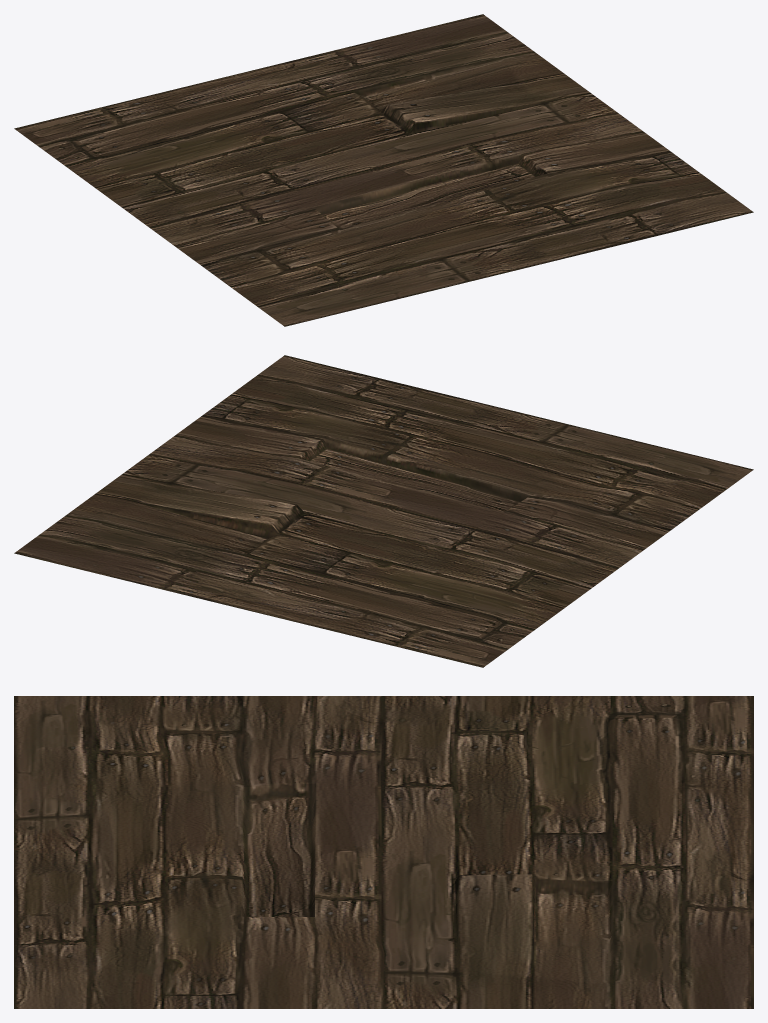
File: tile_02.fbx
The picture shows the model from 3 angles, top to bottom: view 1: azimuth 30°, elevation 25°; view 2: azimuth 150°, elevation 25°; view 3: azimuth 270°, elevation 25°; orthographic projection. The views are drawn at different scales.
Visible parts, largest first — view 1: tile_02; view 2: tile_02; view 3: tile_02.
Boxes of the visible parts, x1,y1,x2,y2 form: tile_02: (14,14,753,326); tile_02: (14,355,753,667); tile_02: (14,696,753,1008).
Bounding box in the file's own units: 100 × 3.65 × 100.
1 material, 1 textured.
